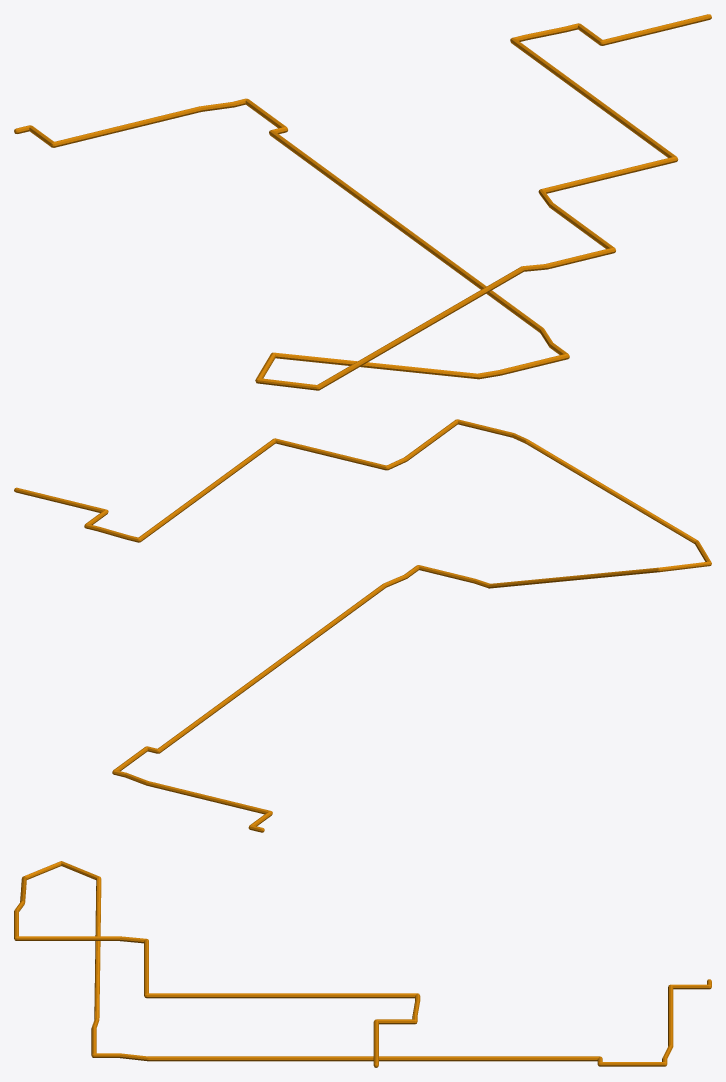
3 renders of one model, top to bottom at view 1: azimuth 30°, elevation 25°; view 2: azimuth 150°, elevation 25°; view 3: azimuth 270°, elevation 25°, orthographic. The views are drawn at different scales.
Bounding box in the file's own units: 2409 × 520 × 2704.
